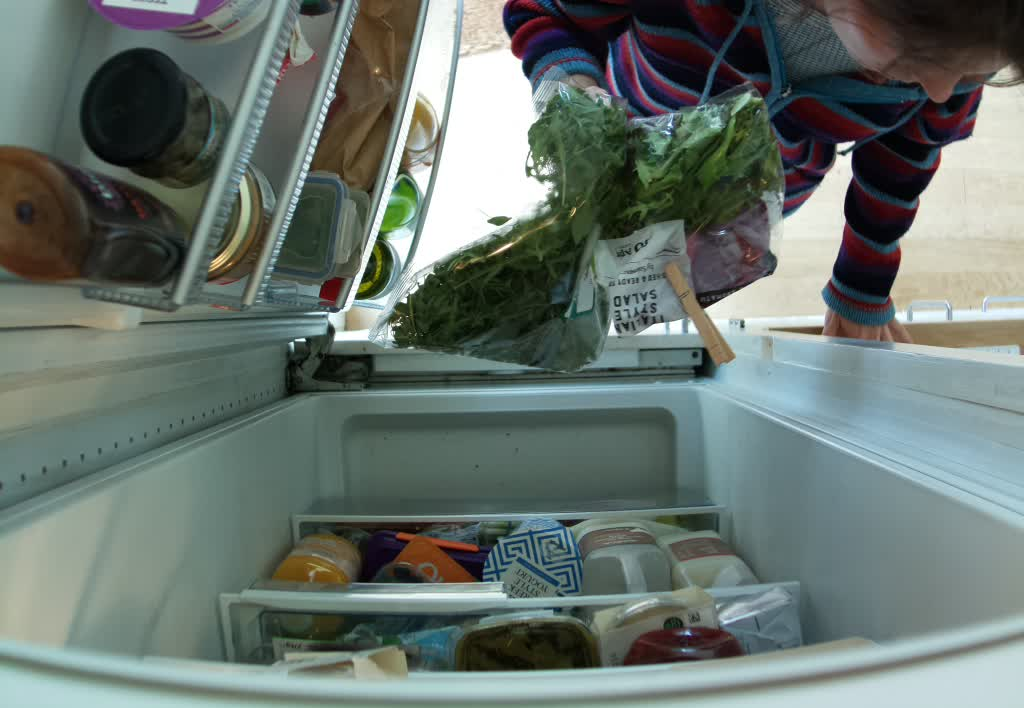salad: (377, 82, 638, 375), (601, 80, 787, 336)
